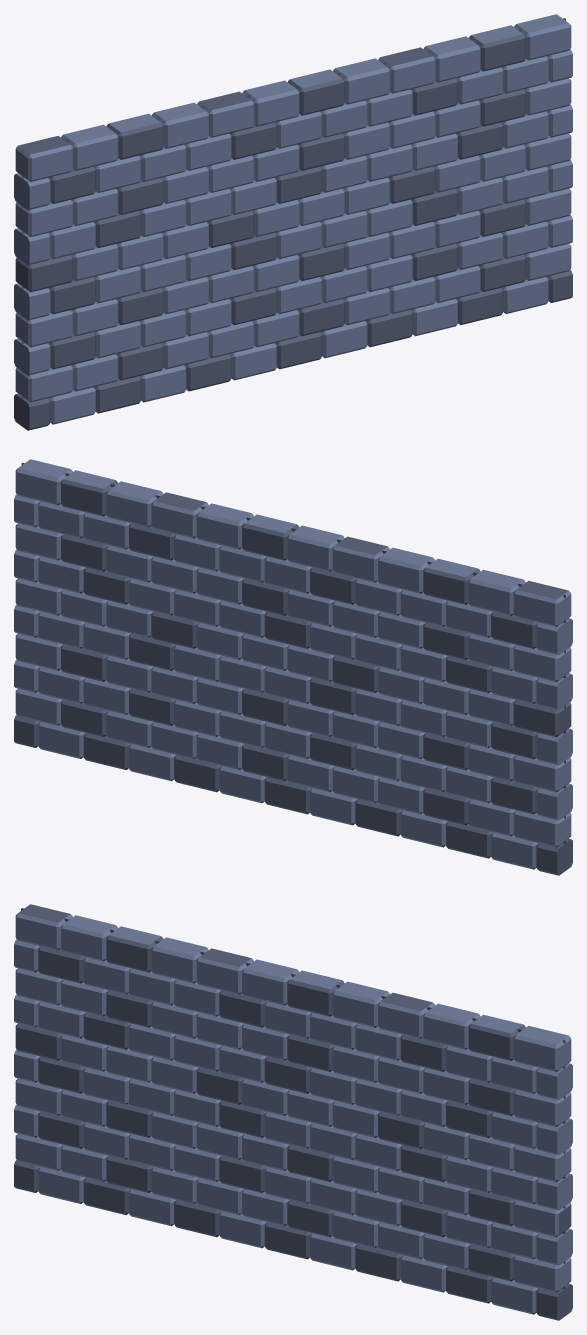
The model's file is wall_long.glb.
3 views of the same model, one above another, from view 1: azimuth 30°, elevation 25°; view 2: azimuth 150°, elevation 25°; view 3: azimuth 330°, elevation 25° (orthographic).
Visible parts, largest first — view 1: brick wall; view 2: brick wall; view 3: brick wall.
Part boxes in pixels (<box>): brick wall: <box>14,14,572,430</box>; brick wall: <box>14,459,572,875</box>; brick wall: <box>14,904,572,1320</box>.
Bounding box in the file's own units: 6.32 × 3.06 × 0.3126.
